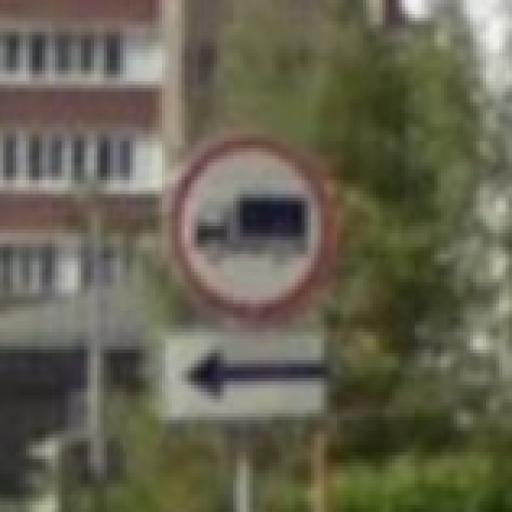traffic_sign: (166, 132, 335, 319)
